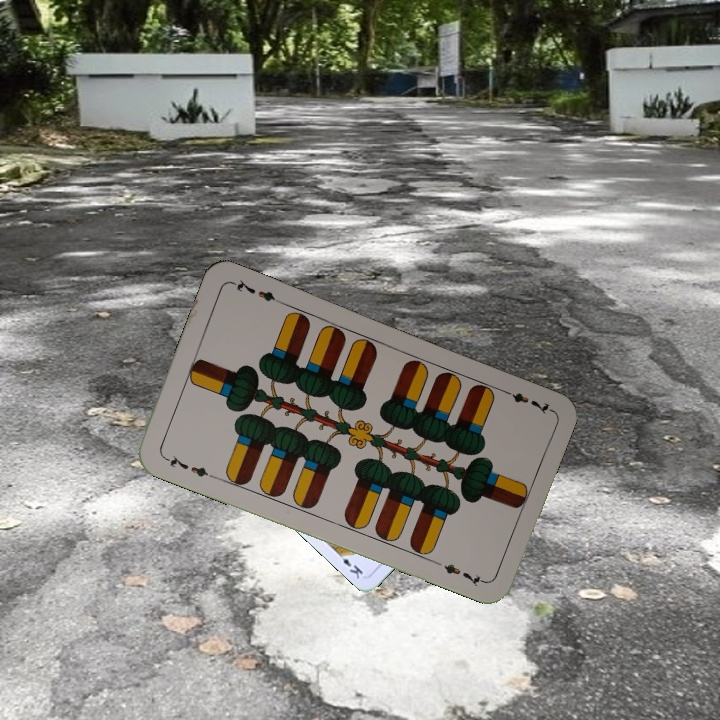E7: (497, 384, 553, 417), (160, 450, 216, 481)
